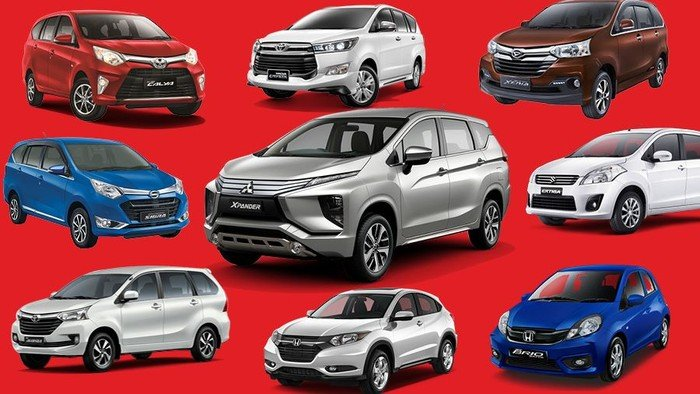mobil: (205, 103, 505, 286), (474, 2, 676, 125), (1, 260, 234, 365), (485, 262, 678, 385), (262, 288, 462, 394), (3, 138, 189, 249), (23, 9, 207, 121), (524, 125, 700, 241), (246, 4, 429, 106)
